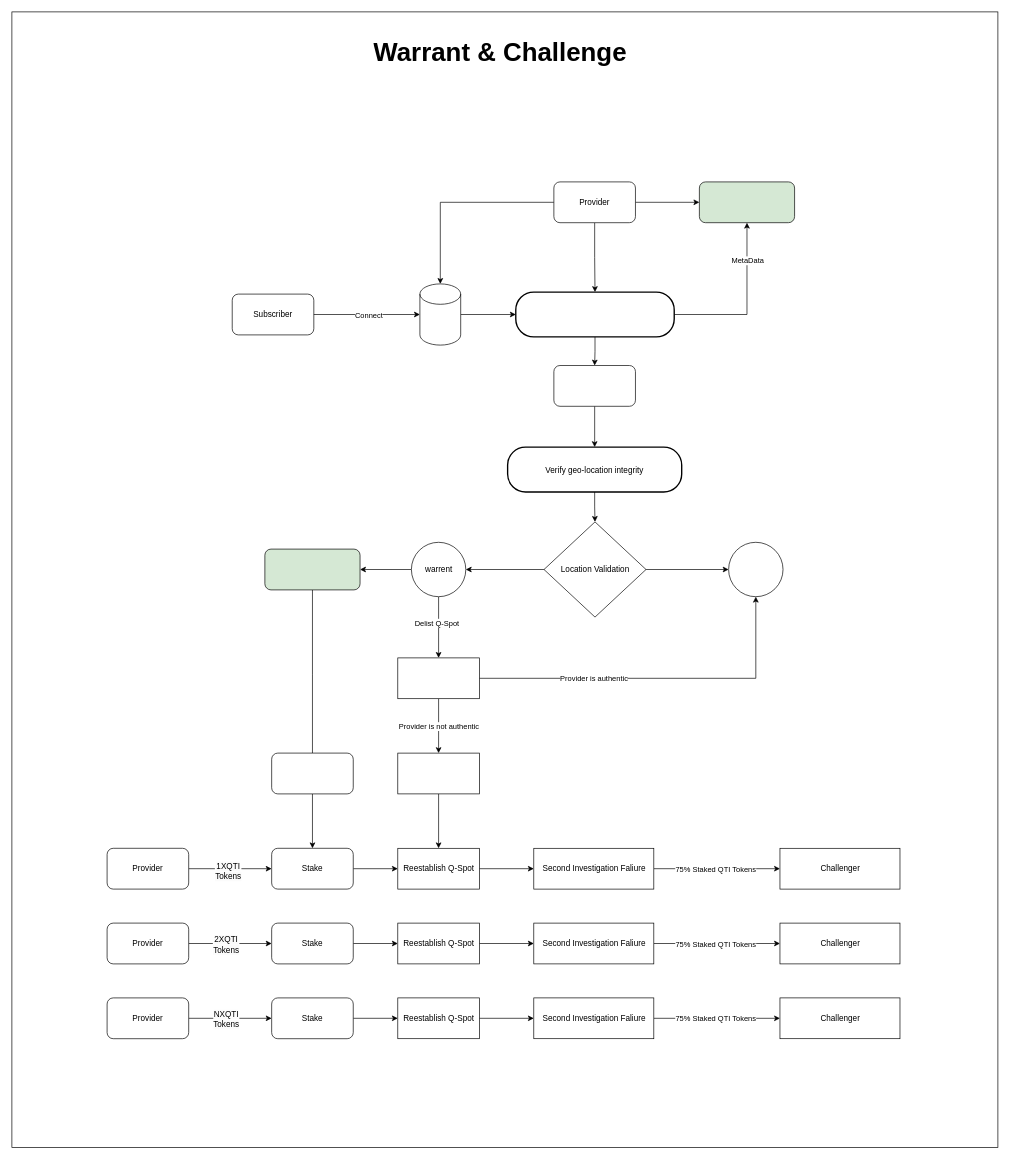
The diagram is 1010 pixels wide and 1159 high, and some of its shapes have lost their labels. Each missing label, with the centre of its shape:
"Delist Provider from Network" goes at (438,773).
"Get provider's geographical location" goes at (595,314).
"GPS-Report" goes at (594,385).
"Mark Q-Spot Available" goes at (755,569).
"Provider Quantum Wallet" goes at (312,569).
"Q-Spot" goes at (440,314).
"Q-Spot Challenge Investigation" goes at (438,678).
"QTI Tokens" goes at (312,773).
"Quantum Wallet" goes at (747,202).
